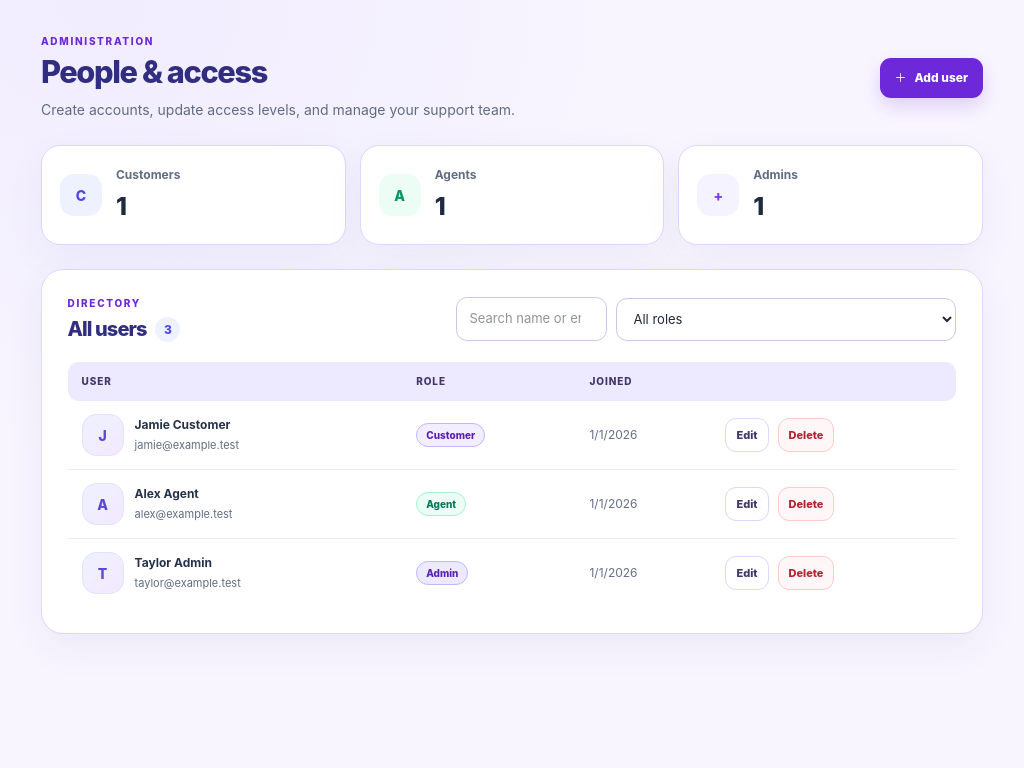
Admin user management › confirms before deleting an account and explains history retention
Later steps or results of the test are not shown.
Step 1. Click the button with aria-label "Delete Jamie Customer" → (806, 435), box [778, 418, 834, 452]
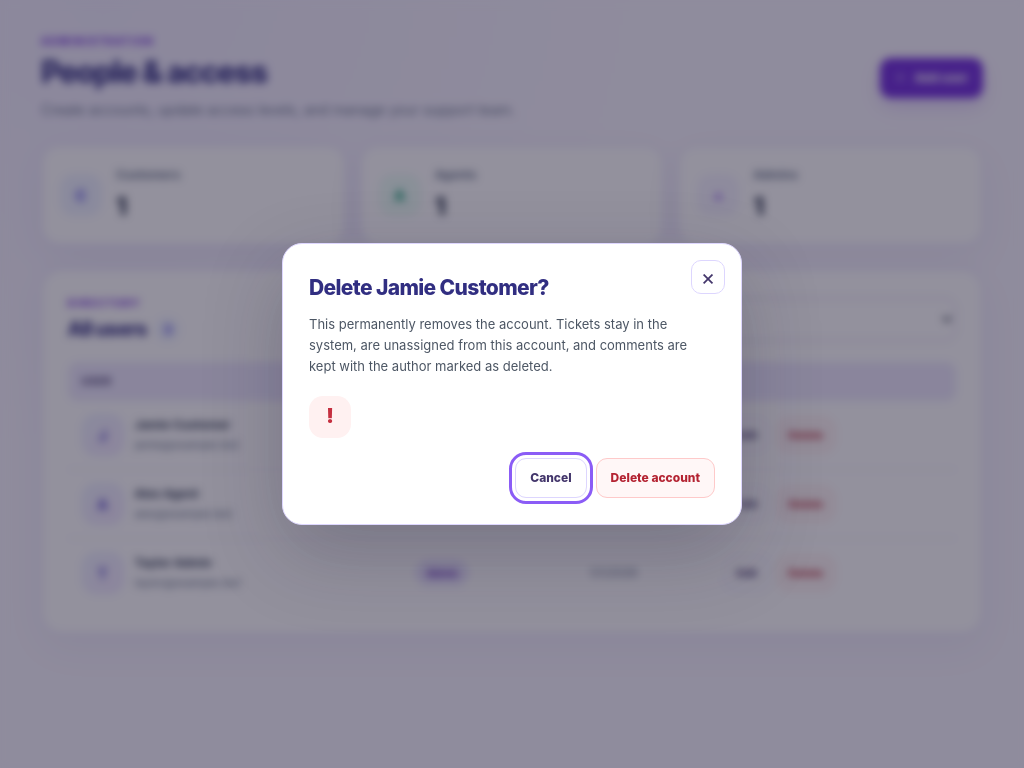
expect the dialog shows "comments are kept": met, box [309, 316, 687, 374]
